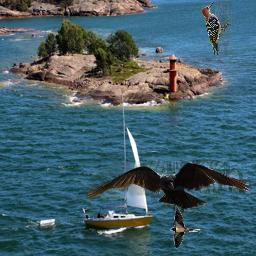Crow: (86, 161, 251, 218)
Swallow: (170, 207, 201, 249)
Woodpecker: (200, 1, 232, 55)
